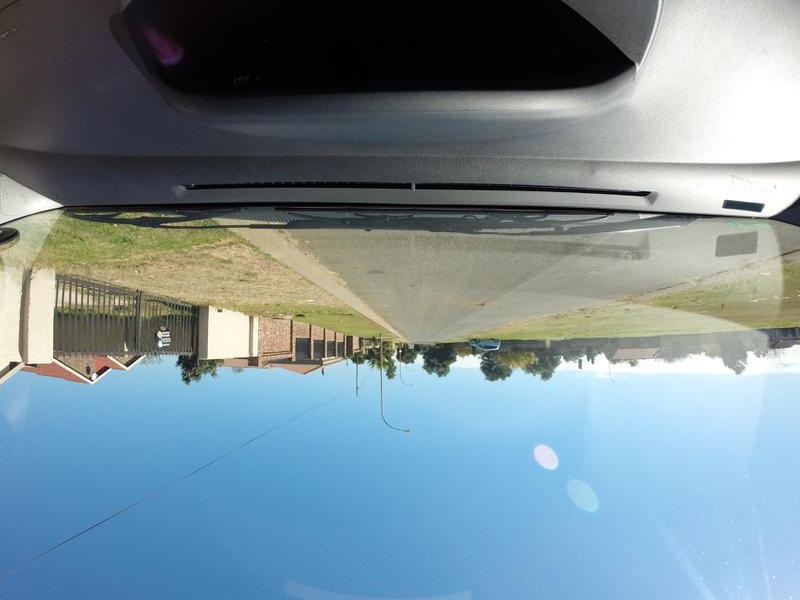pothole: (478, 298, 481, 309)
